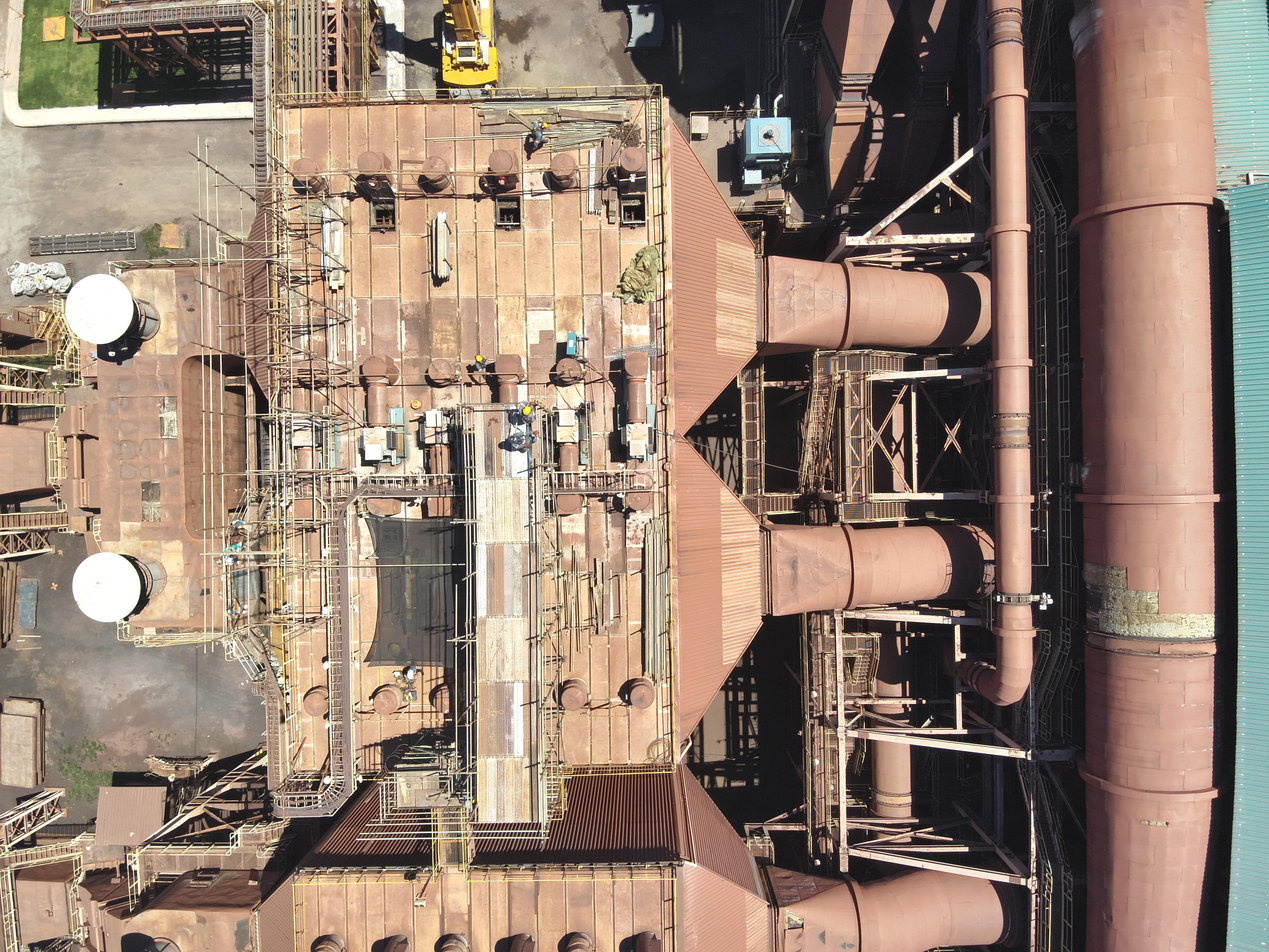Failures: (1084, 615, 1215, 642), (1083, 592, 1161, 614), (1083, 561, 1130, 592), (137, 478, 167, 525), (156, 395, 182, 441), (783, 908, 805, 932), (1140, 819, 1172, 831)
